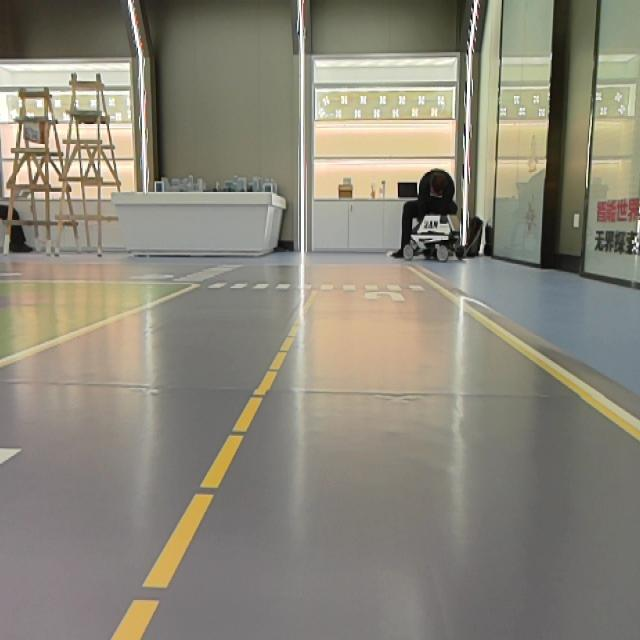left_lane: (113, 299, 306, 637)
right_lane: (417, 266, 640, 443), (0, 283, 201, 370)
